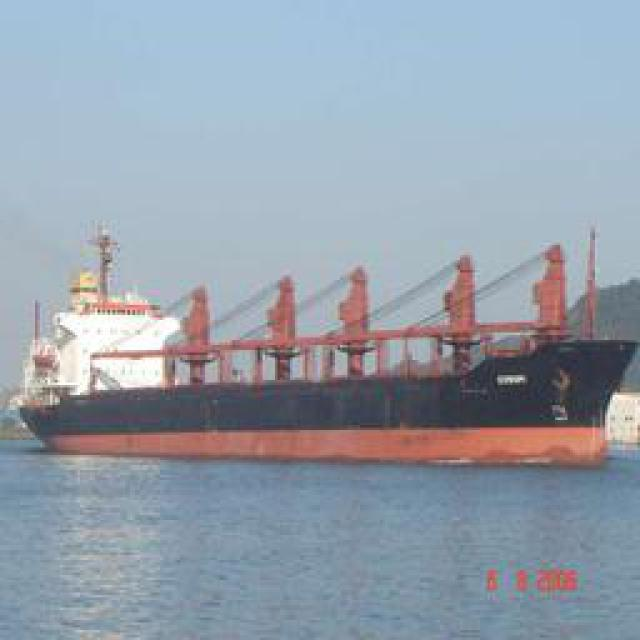Ship: (7, 339, 635, 472)
